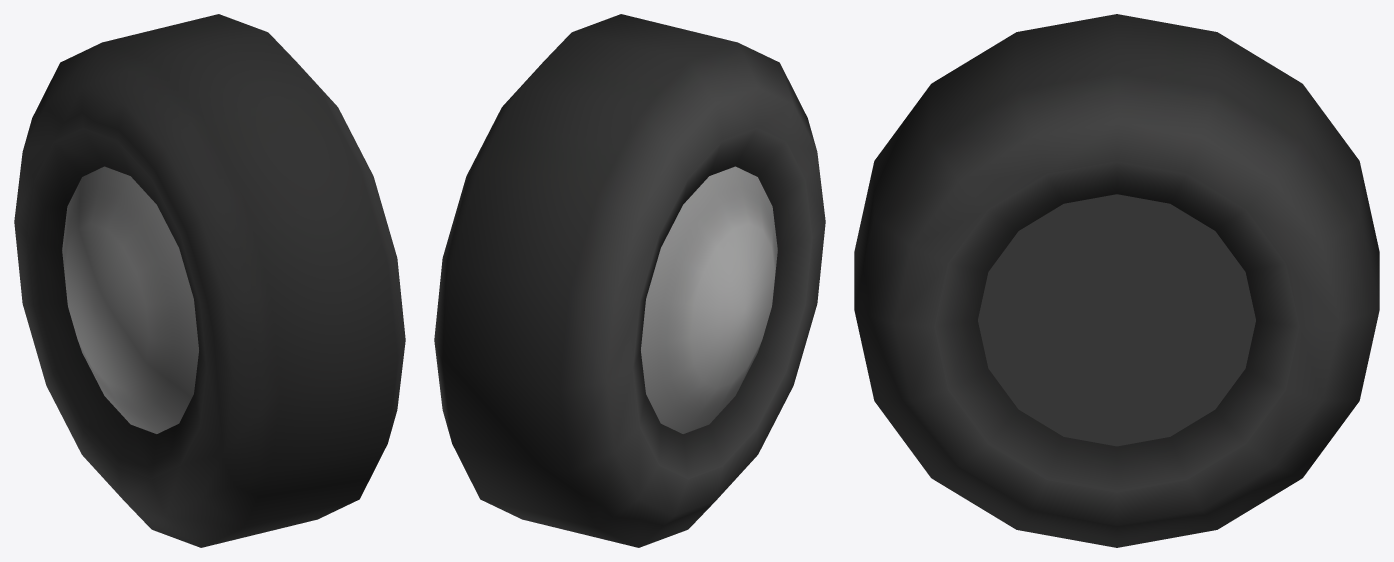
File: Car_1A_wheel.FBX
3 views of the same model, side by side, from view 1: azimuth 30°, elevation 25°; view 2: azimuth 150°, elevation 25°; view 3: azimuth 270°, elevation 25° (orthographic).
Visible parts, largest first — view 1: Wheel_1A_F.R; view 2: Wheel_1A_F.R; view 3: Wheel_1A_F.R.
Part boxes in pixels (x1=…): Wheel_1A_F.R: x1=14, y1=14, x2=405, y2=547; Wheel_1A_F.R: x1=434, y1=14, x2=825, y2=547; Wheel_1A_F.R: x1=854, y1=14, x2=1379, y2=547.
Bounding box in the file's own units: 14.59 × 31.5 × 31.5.
